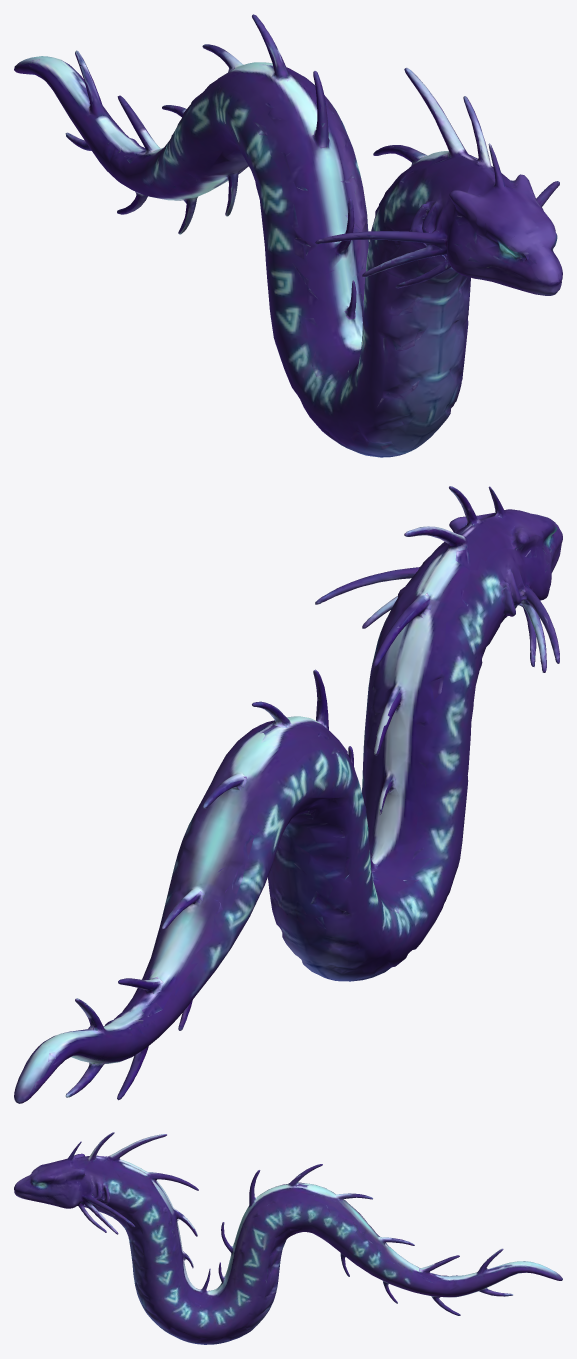
File: fish_leviathan_eel.glb
3 views of the same model, one above another, from view 1: azimuth 30°, elevation 25°; view 2: azimuth 150°, elevation 25°; view 3: azimuth 270°, elevation 25° (orthographic). The views are drawn at different scales.
Parts seen in each view (by area): view 1: Mesh_0; view 2: Mesh_0; view 3: Mesh_0.
Part boxes in pixels (<box>): Mesh_0: <box>14,14,562,457</box>; Mesh_0: <box>14,486,562,1103</box>; Mesh_0: <box>14,1132,562,1344</box>.
Size of the model in its own units: 0.5007 by 0.8173 by 1.91.
1 material, 1 textured.
